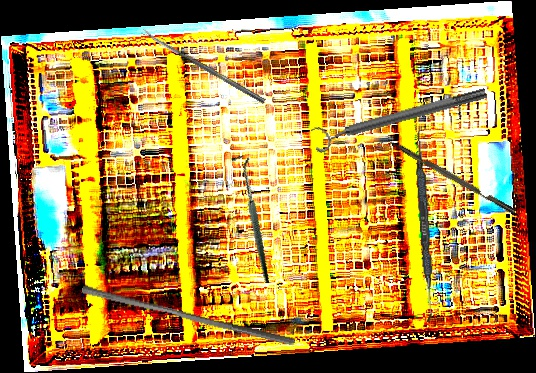Chopper: (376, 132, 517, 222)
Fixation Ring: (310, 80, 490, 155)
Hook Surgical: (199, 153, 303, 284)
Pusher: (79, 284, 298, 347)
Spatula Surgical: (410, 130, 439, 323)
Surgical Spoon: (140, 28, 267, 104)
